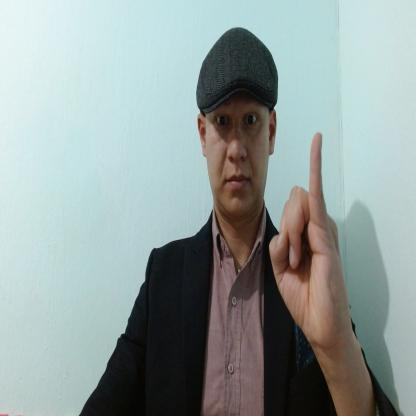I: (268, 130, 350, 345)
